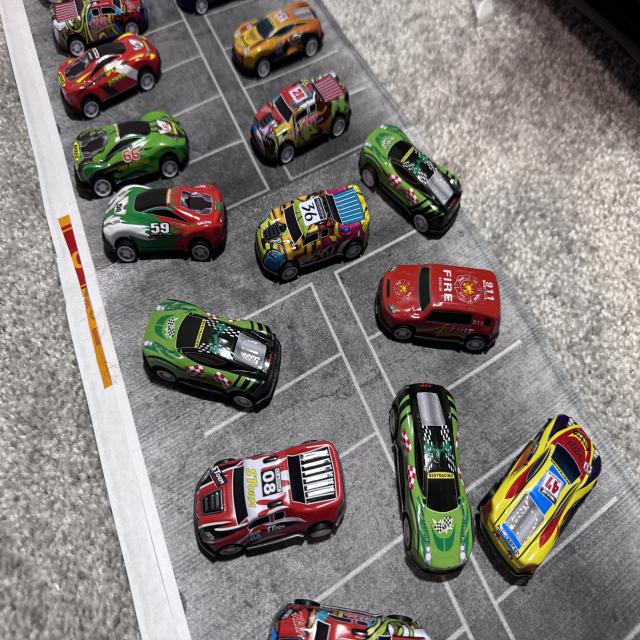car: (261, 110, 423, 297), (484, 386, 602, 636), (360, 359, 481, 576), (128, 289, 304, 424), (197, 440, 341, 559), (354, 111, 463, 231), (240, 68, 358, 165), (71, 110, 190, 198), (100, 183, 226, 265), (56, 32, 163, 120), (376, 258, 488, 342), (232, 1, 325, 78)
